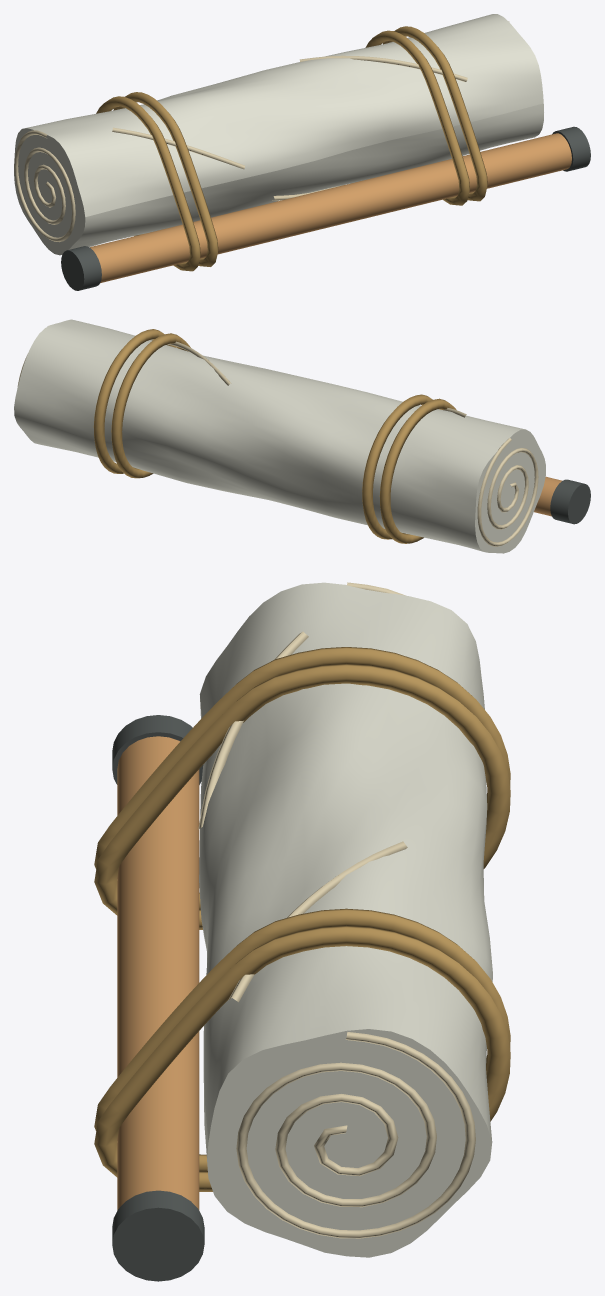
Rendered from detail_sail_bundle.glb.
The picture shows the model from 3 angles, top to bottom: view 1: azimuth 30°, elevation 25°; view 2: azimuth 150°, elevation 25°; view 3: azimuth 270°, elevation 25°; orthographic projection. The views are drawn at different scales.
Visible parts, largest first — view 1: cloth, wood, metal; view 2: cloth, metal, wood; view 3: cloth, wood, metal.
Boxes of the visible parts, bbox=[...] form: cloth: bbox=[14, 14, 543, 271]; wood: bbox=[90, 133, 571, 282]; metal: bbox=[61, 126, 590, 290]; cloth: bbox=[14, 319, 545, 553]; metal: bbox=[550, 479, 590, 524]; wood: bbox=[534, 476, 562, 516]; cloth: bbox=[94, 582, 510, 1257]; wood: bbox=[117, 736, 199, 1210]; metal: bbox=[112, 715, 204, 1281].
Bounding box in the file's own units: 1.4 × 0.35 × 0.5.
